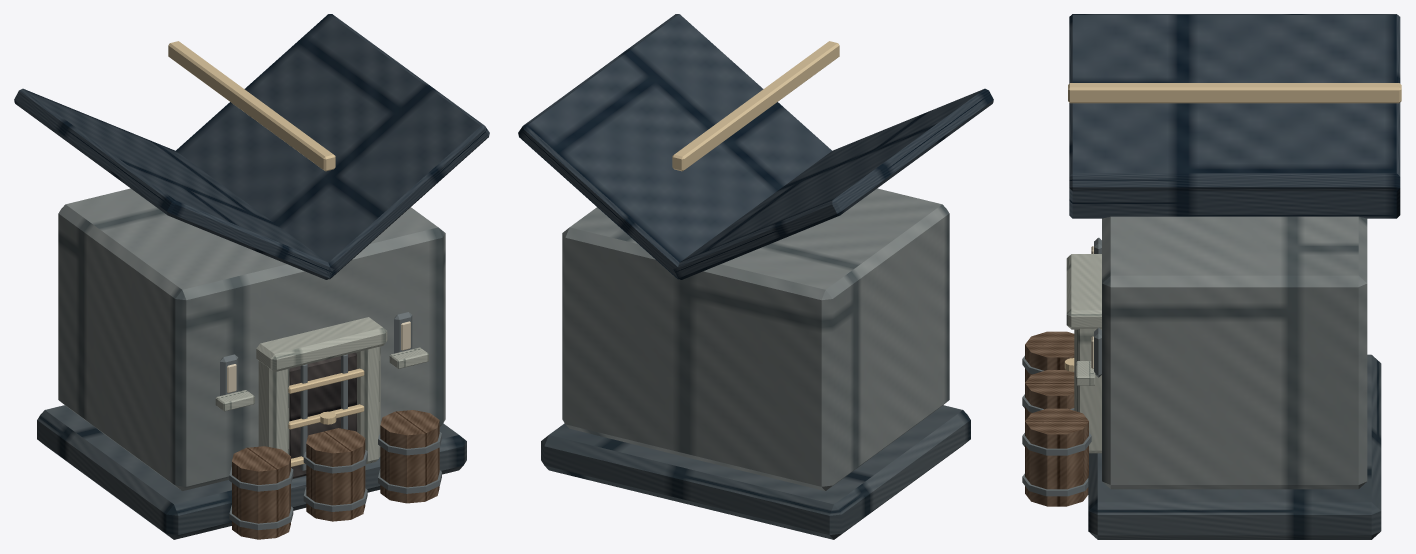
Rendered from Granary.glb.
3 views of the same model, side by side, from view 1: azimuth 30°, elevation 25°; view 2: azimuth 150°, elevation 25°; view 3: azimuth 270°, elevation 25° (orthographic). The views are drawn at different scales.
Visible parts, largest first — view 1: Granary body, Granary roof/right, Granary roof/left, Granary raised sill, Grain barrel.002, Grain barrel.001, Grain barrel, Lintel crown.002, Granary roof/ridge, Two oak gate leaves.002, Gate pier.004, Gate pier.005 (+4 smaller); view 2: Granary body, Granary roof/right, Granary raised sill, Granary roof/left, Granary roof/ridge; view 3: Granary body, Granary roof/left, Granary raised sill, Granary roof/right, Granary roof/ridge, Grain barrel.002, Lintel crown.002, Gate pier.005, Grain barrel.001, Grain barrel, Iron hoop.005, Iron hoop.004 (+1 smaller).
Boxes of the visible parts, left/top/right/bottom form: Granary body: left=58, top=188, right=445, bottom=490; Granary roof/right: left=176, top=14, right=489, bottom=279; Granary roof/left: left=14, top=88, right=334, bottom=279; Granary raised sill: left=37, top=405, right=466, bottom=539; Grain barrel.002: left=380, top=410, right=439, bottom=503; Grain barrel.001: left=306, top=428, right=365, bottom=521; Grain barrel: left=232, top=446, right=290, bottom=539; Lintel crown.002: left=256, top=317, right=387, bottom=371; Granary roof/ridge: left=168, top=41, right=335, bottom=171; Two oak gate leaves.002: left=289, top=352, right=356, bottom=478; Gate pier.004: left=258, top=361, right=289, bottom=454; Gate pier.005: left=356, top=346, right=380, bottom=464; Granary body: left=562, top=188, right=949, bottom=490; Granary roof/right: left=518, top=14, right=831, bottom=279; Granary raised sill: left=541, top=405, right=970, bottom=539; Granary roof/left: left=673, top=88, right=993, bottom=279; Granary roof/ridge: left=672, top=41, right=839, bottom=171; Granary body: left=1102, top=216, right=1367, bottom=489; Granary roof/left: left=1069, top=14, right=1400, bottom=176; Granary raised sill: left=1088, top=354, right=1381, bottom=539; Granary roof/right: left=1069, top=173, right=1400, bottom=218; Granary roof/ridge: left=1068, top=83, right=1401, bottom=103; Grain barrel.002: left=1025, top=408, right=1088, bottom=506; Lintel crown.002: left=1066, top=254, right=1101, bottom=329; Gate pier.005: left=1074, top=328, right=1101, bottom=453; Grain barrel.001: left=1025, top=370, right=1074, bottom=420; Grain barrel: left=1025, top=331, right=1074, bottom=382; Iron hoop.005: left=1022, top=432, right=1091, bottom=455; Iron hoop.004: left=1022, top=473, right=1088, bottom=496.
Size of the model in its own units: 4.57 by 4.85 by 4.37.
Materials: 11 (6 with a texture image).
